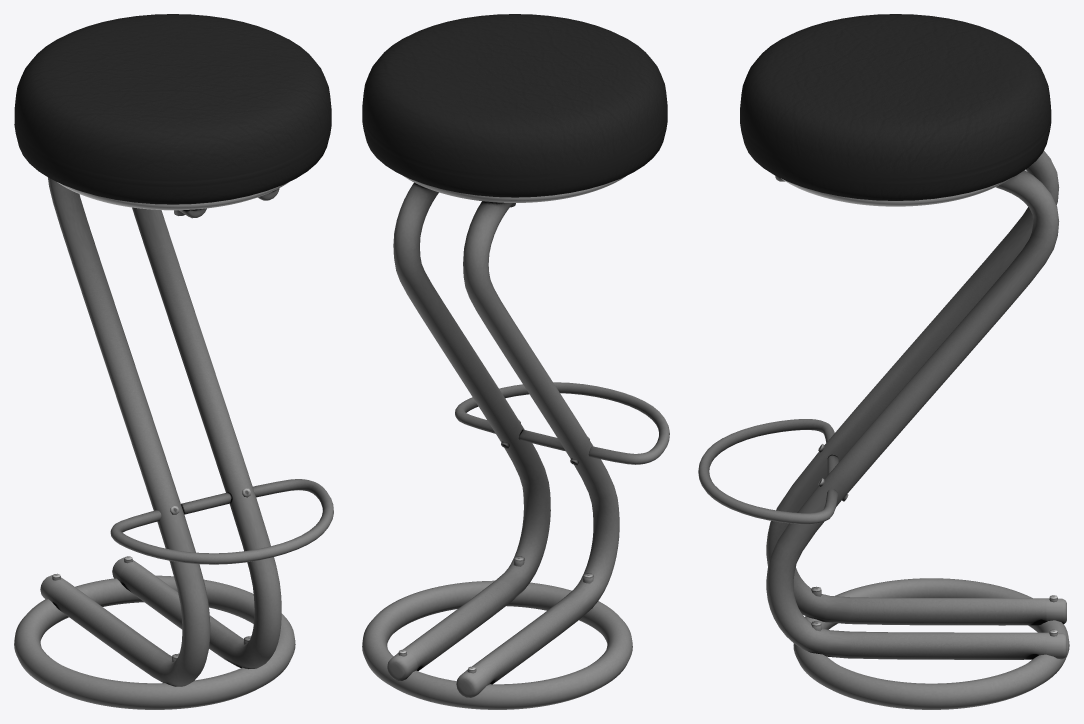
File: Chair1.glb
3 renders of one model, left to right at view 1: azimuth 30°, elevation 25°; view 2: azimuth 150°, elevation 25°; view 3: azimuth 270°, elevation 25°, orthographic. The views are drawn at different scales.
Parts seen in each view (by area): view 1: Bar_Chair; view 2: Bar_Chair; view 3: Bar_Chair.
Boxes of the visible parts, x1=… form: Bar_Chair: x1=14, y1=14, x2=333, y2=709; Bar_Chair: x1=362, y1=14, x2=669, y2=709; Bar_Chair: x1=698, y1=14, x2=1069, y2=709.
Bounding box in the file's own units: 1.58 × 3.31 × 1.89.
2 materials, 2 textured.
